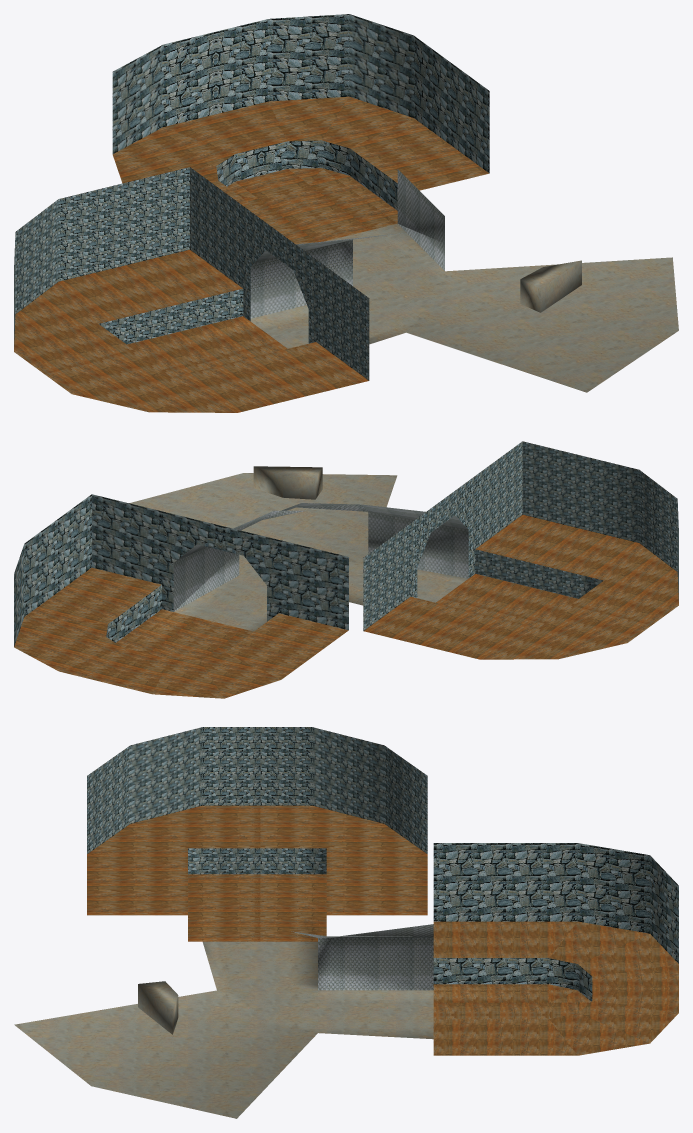
The model's file is lighting-test.gltf.
3 renders of one model, top to bottom at view 1: azimuth 30°, elevation 25°; view 2: azimuth 150°, elevation 25°; view 3: azimuth 270°, elevation 25°, orthographic. The views are drawn at different scales.
Parts seen in each view (by area): view 1: level.001-col (×2), level-col, level.002-col (×2); view 2: level.001-col (×2), level-col, level.002-col (×2); view 3: level.001-col (×2), level-col, level.002-col (×2).
Boxes of the visible parts, x1,y1,x2,y2 form: level.001-col (×2): [14, 167, 369, 412]; level-col: [112, 14, 489, 244]; level.002-col (×2): [250, 169, 678, 392]; level.001-col (×2): [363, 441, 678, 659]; level-col: [14, 494, 348, 698]; level.002-col (×2): [129, 466, 468, 631]; level.001-col (×2): [87, 727, 427, 941]; level-col: [433, 843, 678, 1055]; level.002-col (×2): [14, 924, 433, 1118].
Bounding box in the file's own units: 47.06 × 8 × 46.06.
4 materials, 4 textured.
